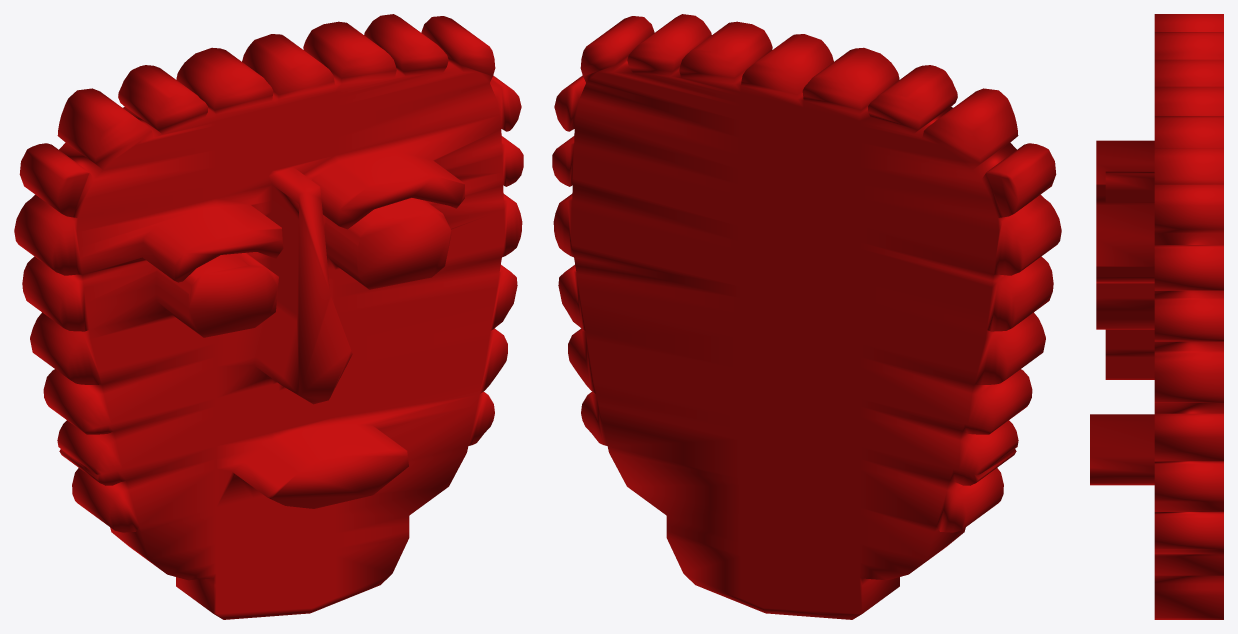
Rendered from mask1.FBX.
3 renders of one model, left to right at view 1: azimuth 30°, elevation 25°; view 2: azimuth 150°, elevation 25°; view 3: azimuth 270°, elevation 25°, orthographic. The views are drawn at different scales.
Parts seen in each view (by area): view 1: Box001; view 2: Box001; view 3: Box001.
Boxes of the visible parts, x1,y1,x2,y2 form: Box001: [14, 14, 523, 619]; Box001: [552, 14, 1061, 619]; Box001: [1090, 14, 1223, 619].
Bounding box in the file's own units: 14.23 × 15.93 × 3.81.
